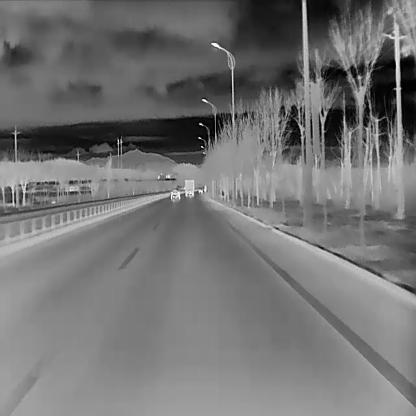car: (170, 187, 180, 199), (197, 186, 203, 193)
truck: (183, 177, 193, 195)
